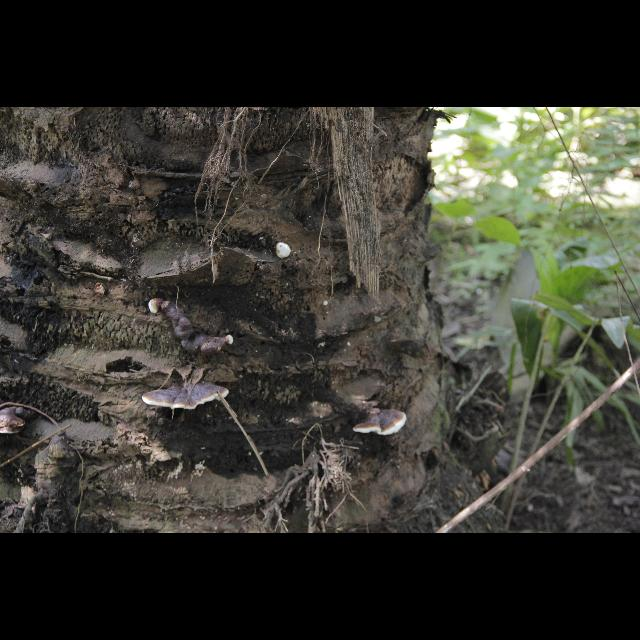ganoderma: (162, 300, 226, 357), (142, 382, 231, 412), (354, 406, 409, 438), (1, 407, 35, 435)
primordium: (276, 243, 292, 260), (149, 298, 161, 316), (226, 336, 236, 347), (323, 301, 329, 307)
